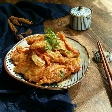guobaorou: (8, 33, 86, 87)
